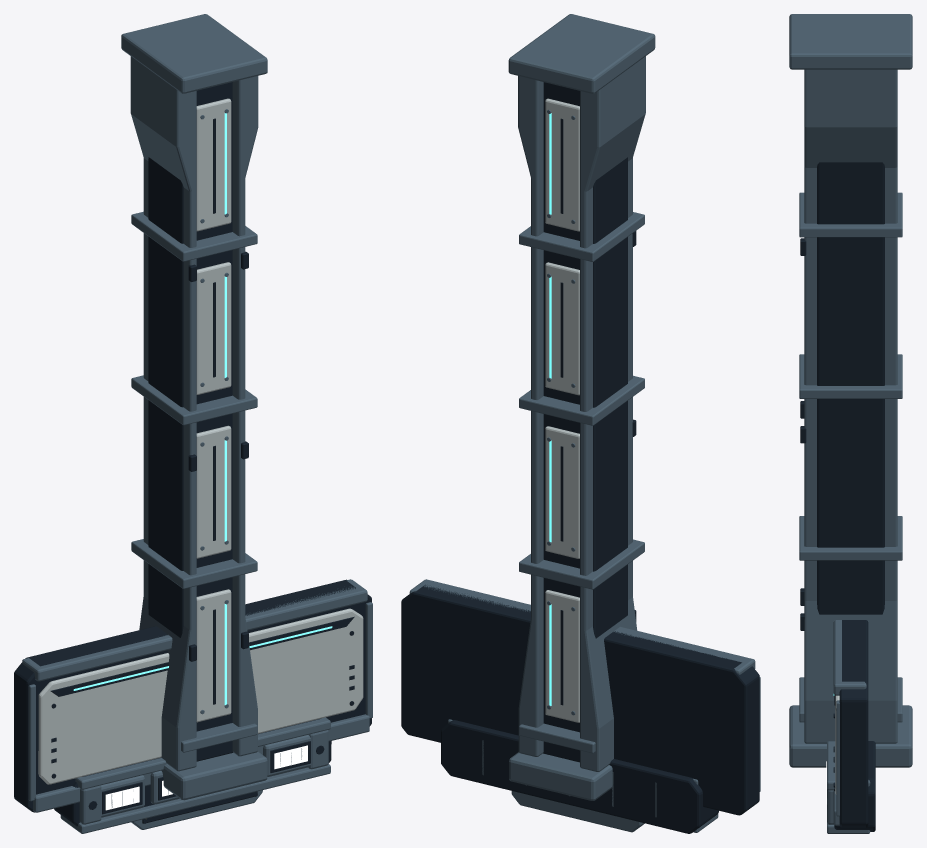
File: kit-v1.glb
3 renders of one model, left to right at view 1: azimuth 30°, elevation 25°; view 2: azimuth 150°, elevation 25°; view 3: azimuth 270°, elevation 25°, orthographic.
Parts seen in each view (by area): view 1: support-pylon_alloy, barrier-panel_ceramic, support-pylon_graphite, support-pylon_ceramic, barrier-panel_graphite, barrier-panel_alloy, light-fixture_alloy, light-fixture_graphite, light-fixture_warm, support-pylon_cyan, vent-module_alloy; view 2: support-pylon_alloy, barrier-panel_graphite, support-pylon_graphite, support-pylon_ceramic, light-fixture_graphite, barrier-panel_alloy, vent-module_alloy, support-pylon_cyan; view 3: support-pylon_alloy, support-pylon_graphite, barrier-panel_graphite, barrier-panel_alloy, light-fixture_alloy, light-fixture_graphite.
Part boxes in pixels (<box>): support-pylon_alloy: <box>121,14,267,800</box>; barrier-panel_ceramic: <box>38,608,363,784</box>; support-pylon_graphite: <box>148,82,248,761</box>; support-pylon_ceramic: <box>196,98,231,722</box>; barrier-panel_graphite: <box>14,579,371,812</box>; barrier-panel_alloy: <box>22,579,372,812</box>; light-fixture_alloy: <box>60,717,330,833</box>; light-fixture_graphite: <box>54,718,331,826</box>; light-fixture_warm: <box>105,745,307,810</box>; support-pylon_cyan: <box>224,113,226,705</box>; vent-module_alloy: <box>131,790,262,829</box>; support-pylon_alloy: <box>508,14,655,800</box>; barrier-panel_graphite: <box>401,584,759,815</box>; support-pylon_graphite: <box>543,82,636,762</box>; support-pylon_ceramic: <box>545,98,579,722</box>; light-fixture_graphite: <box>441,720,718,833</box>; barrier-panel_alloy: <box>409,579,760,791</box>; vent-module_alloy: <box>511,791,644,832</box>; support-pylon_cyan: <box>549,113,551,705</box>; support-pylon_alloy: <box>789,14,912,767</box>; support-pylon_graphite: <box>800,162,884,630</box>; barrier-panel_graphite: <box>833,620,868,827</box>; barrier-panel_alloy: <box>833,620,866,825</box>; light-fixture_alloy: <box>827,741,870,833</box>; light-fixture_graphite: <box>827,741,875,831</box>.
Size of the model in its own units: 8 by 17 by 2.5.
